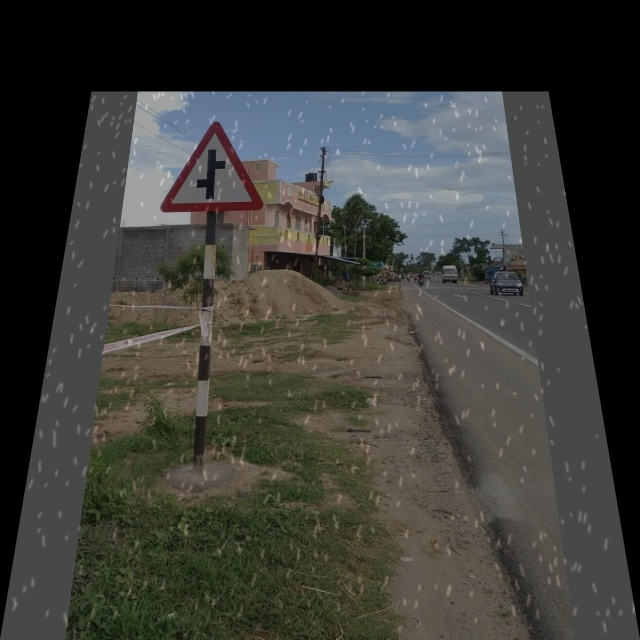Staggered_Intersection: (161, 114, 269, 218)
